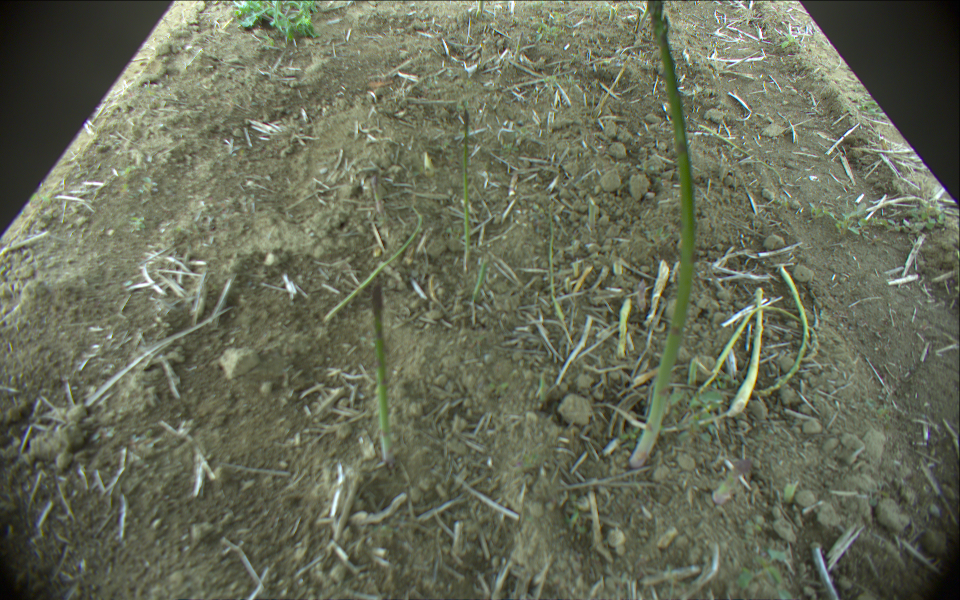aspa: (628, 1, 697, 468), (325, 203, 423, 326), (753, 264, 813, 395), (370, 264, 399, 462), (539, 201, 578, 346), (697, 303, 759, 392), (729, 287, 765, 416), (458, 108, 472, 270), (614, 299, 634, 355), (635, 5, 651, 32), (512, 33, 524, 59), (475, 1, 486, 18)
